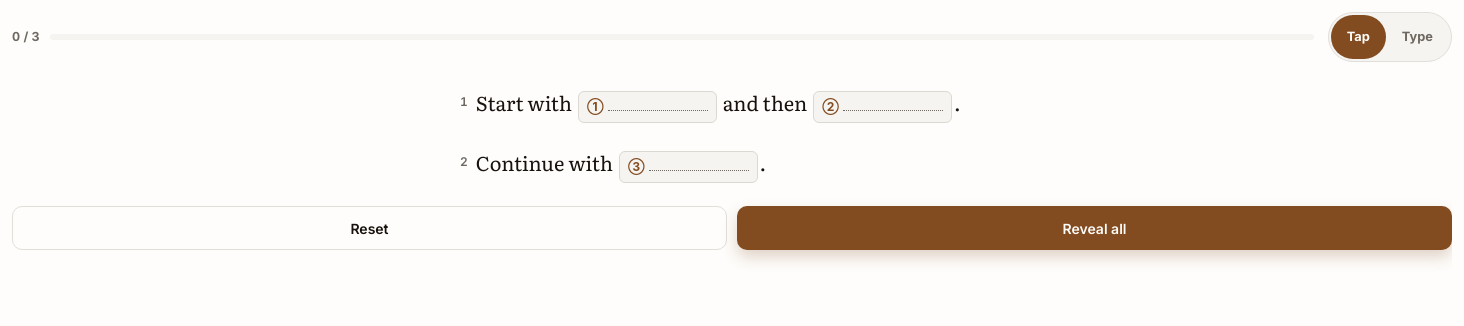
Test case: ClozeTrainer › a correct typed answer locks the blank in
Click the button "Type" at (1417, 37), box [1386,15,1449,59]
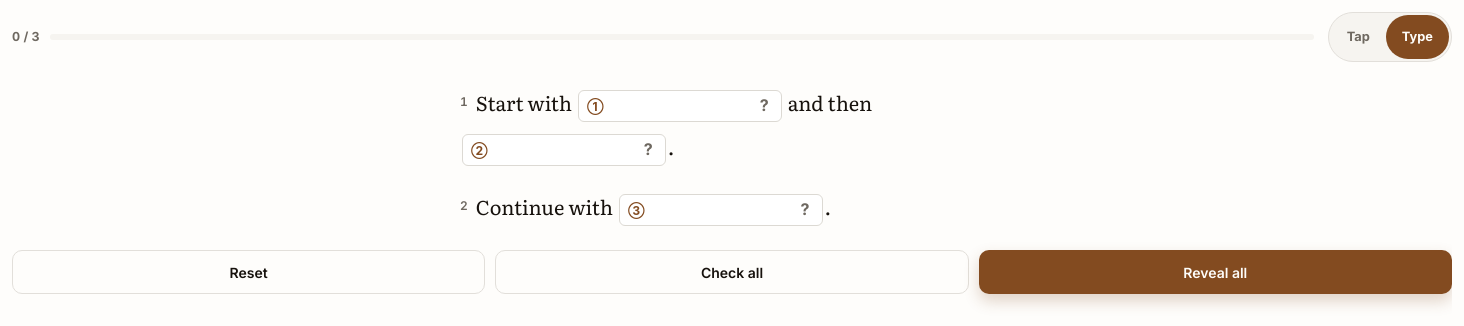
Type "a final marker" into the 2nd field with test id "cloze-input" at (566, 148), box [494,136,638,160]
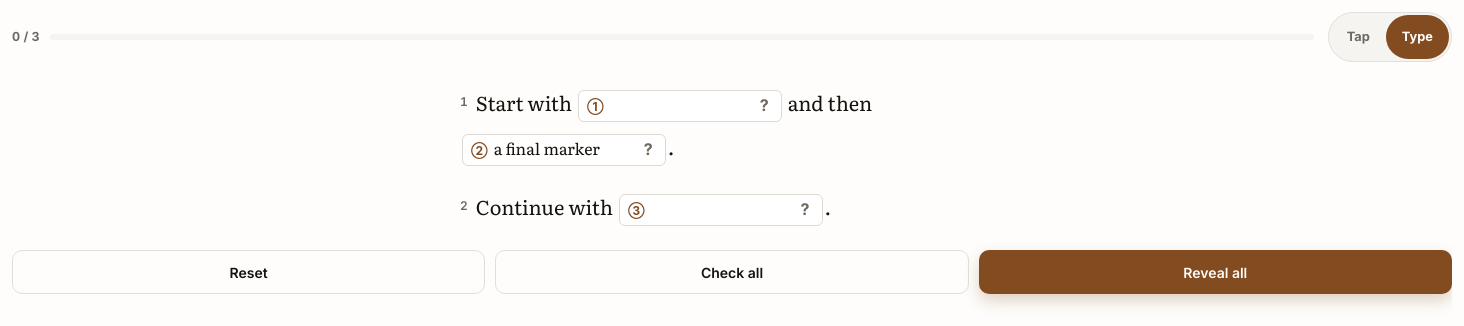
Press Enter in the 2nd field with test id "cloze-input", box [494,136,638,160]
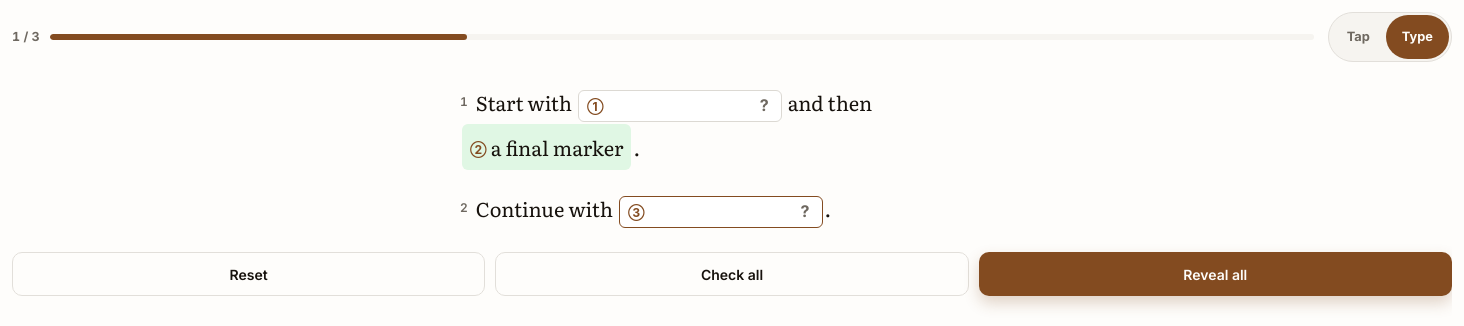
Now the text "a final marker" is shown, box [462,124,631,170]
Now the text "1 / 3" is shown, box [12,28,40,46]
